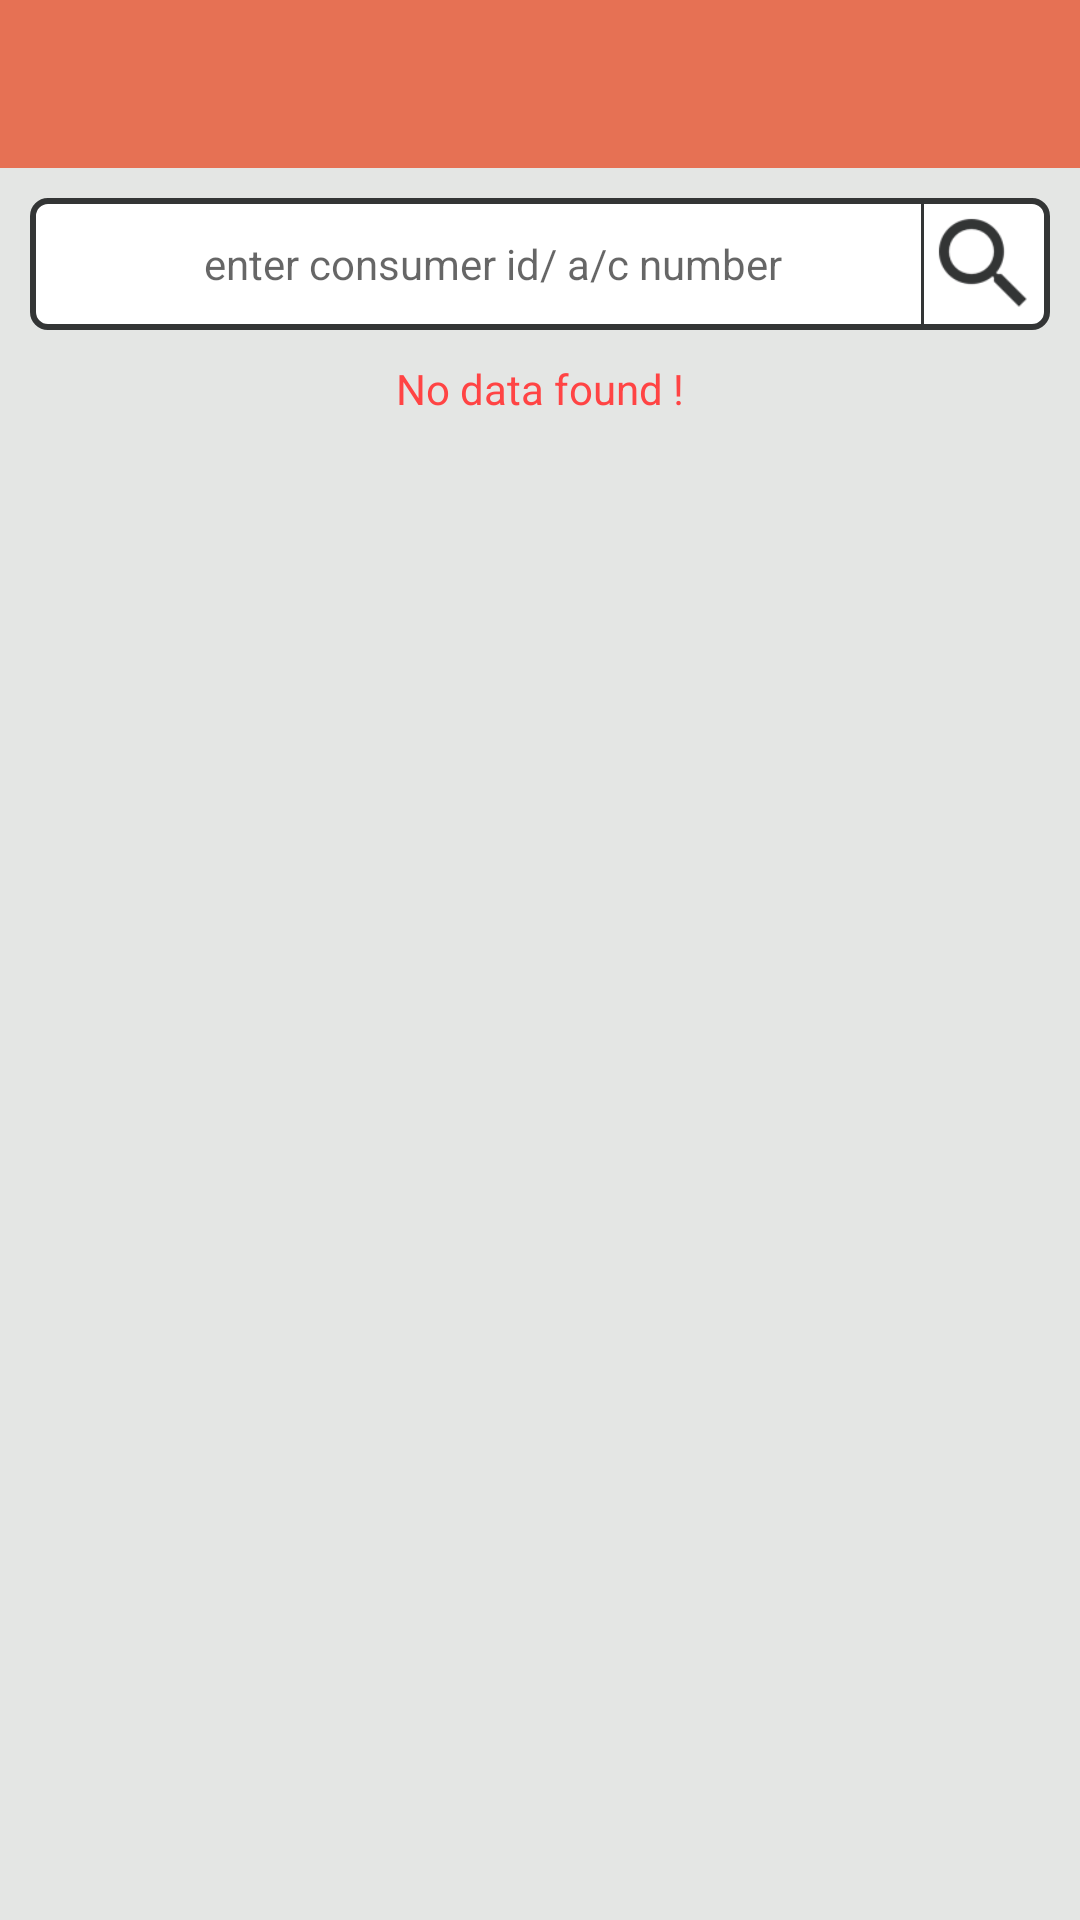

Where icons sit on this 1080px×1920px app screen, as (x1, y1, x2, y2):
search: (924, 204, 1044, 324)
